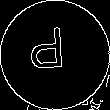P_S: (35, 29, 75, 81)
